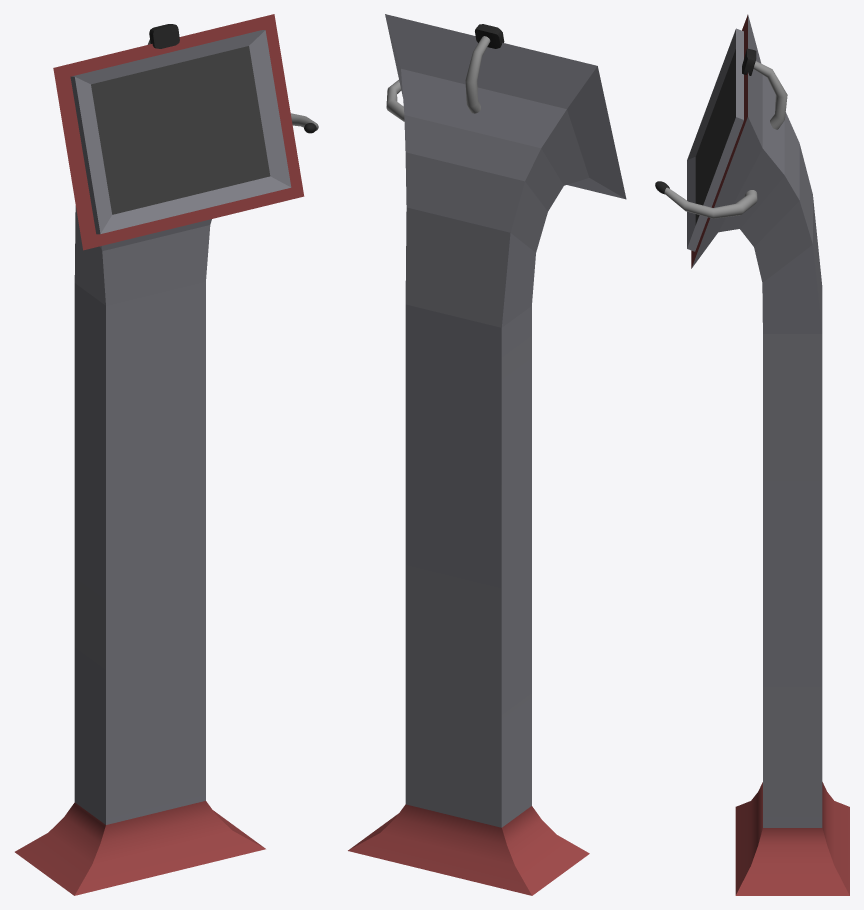
Rendered from moduloHacka.fbx.
3 renders of one model, left to right at view 1: azimuth 30°, elevation 25°; view 2: azimuth 150°, elevation 25°; view 3: azimuth 270°, elevation 25°, orthographic. The views are drawn at different scales.
Parts seen in each view (by area): view 1: microphone1; view 2: microphone1; view 3: microphone1.
Boxes of the visible parts, x1,y1,x2,y2 form: microphone1: (15,14,318,895); microphone1: (348,14,626,895); microphone1: (655,14,849,895).
Size of the model in its own units: 16.1 by 54.63 by 12.06.
